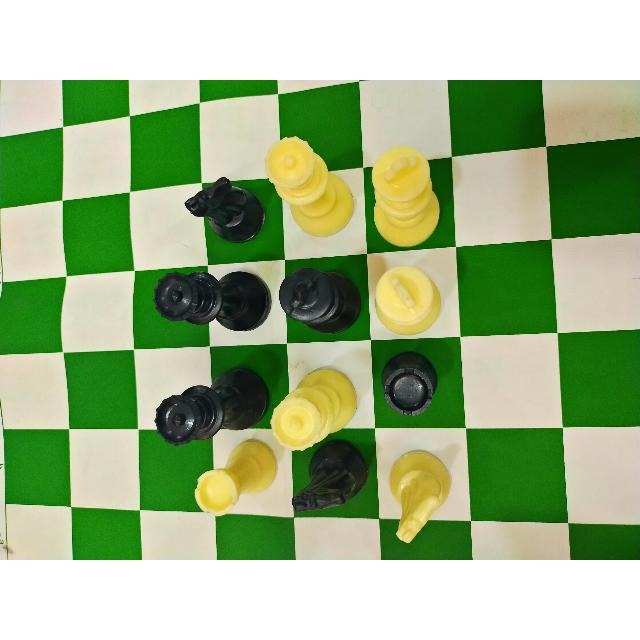black-king: (276, 266, 363, 334)
black-knight: (289, 437, 371, 515), (182, 174, 265, 246)
black-queen: (155, 357, 271, 447), (150, 269, 272, 332)
black-rook: (377, 350, 442, 418)
white-king: (369, 145, 446, 249), (372, 264, 444, 339)
white-knight: (385, 446, 452, 545)
white-queen: (263, 134, 358, 241), (268, 365, 357, 454)
white-rook: (191, 438, 277, 518)
